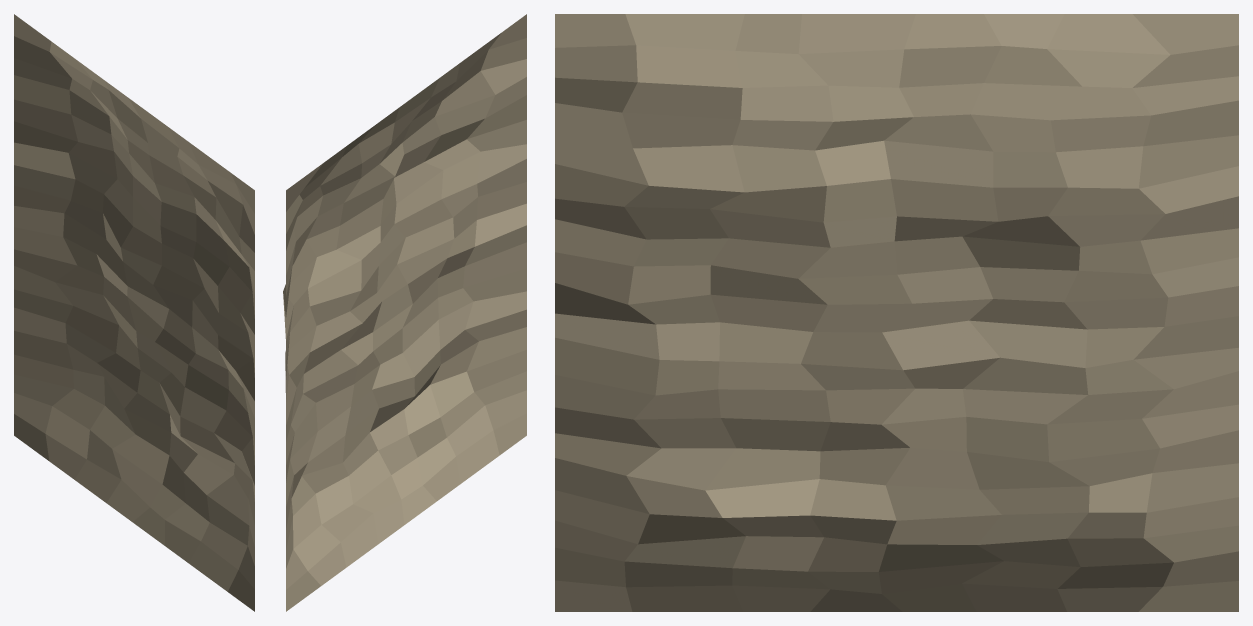
File: SM_SB_Kit_RockFaceC.fbx
3 views of the same model, side by side, from view 1: azimuth 30°, elevation 25°; view 2: azimuth 150°, elevation 25°; view 3: azimuth 270°, elevation 25° (orthographic). The views are drawn at different scales.
Visible parts, largest first — view 1: SM_SB_Kit_RockFaceC; view 2: SM_SB_Kit_RockFaceC; view 3: SM_SB_Kit_RockFaceC.
Boxes of the visible parts, x1,y1,x2,y2 form: SM_SB_Kit_RockFaceC: [14, 14, 254, 611]; SM_SB_Kit_RockFaceC: [283, 14, 526, 611]; SM_SB_Kit_RockFaceC: [555, 14, 1238, 611].
Bounding box in the file's own units: 41.01 × 430 × 415.
